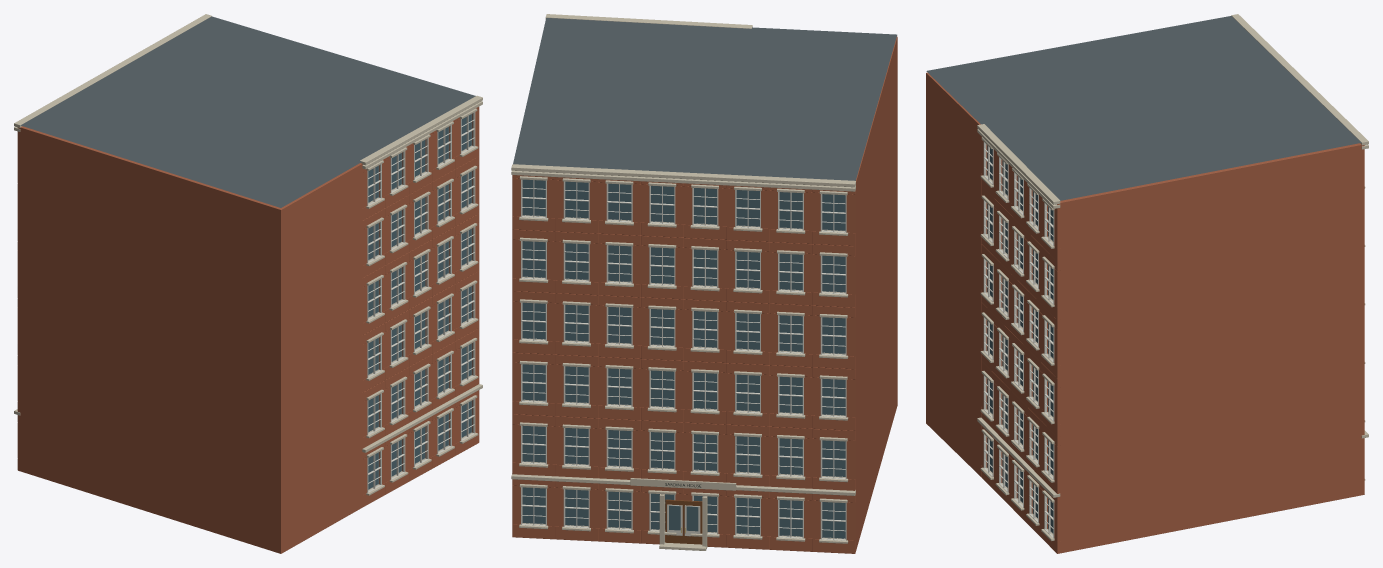
Rendered from sar-exterior-af638a4d774f.glb.
3 renders of one model, left to right at view 1: azimuth 30°, elevation 25°; view 2: azimuth 150°, elevation 25°; view 3: azimuth 270°, elevation 25°, orthographic. The views are drawn at different scales.
Parts seen in each view (by area): view 1: SAR.001; view 2: SAR.001; view 3: SAR.001.
Boxes of the visible parts, bbox=[...] form: SAR.001: bbox=[14, 14, 482, 553]; SAR.001: bbox=[511, 14, 897, 553]; SAR.001: bbox=[926, 14, 1368, 553].
Bounding box in the file's own units: 26.44 × 23.15 × 26.32.
